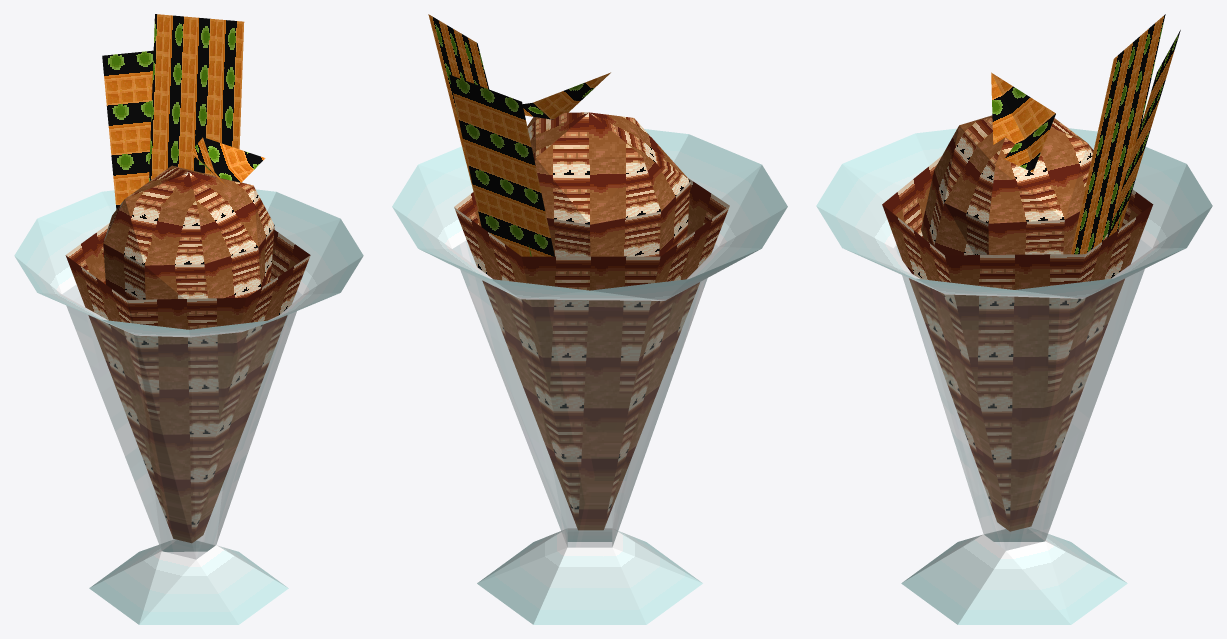
The model's file is parfait_b.gltf.
The picture shows the model from 3 angles, left to right: view 1: azimuth 30°, elevation 25°; view 2: azimuth 150°, elevation 25°; view 3: azimuth 270°, elevation 25°; orthographic projection. The views are drawn at different scales.
Visible parts, largest first — view 1: parfait_b; view 2: parfait_b; view 3: parfait_b.
Part boxes in pixels (<box>): parfait_b: <box>14,14,363,624</box>; parfait_b: <box>392,14,787,624</box>; parfait_b: <box>816,14,1212,624</box>.
Bounding box in the file's own units: 0.6074 × 0.9897 × 0.6055.
Materials: 4 (4 with a texture image).
